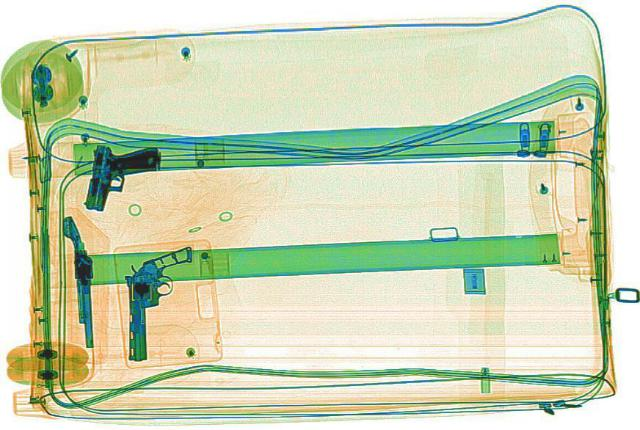Gun: (115, 244, 202, 363), (80, 140, 162, 213), (62, 215, 100, 354)
